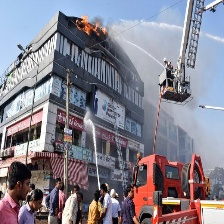fire: (76, 12, 106, 40)
